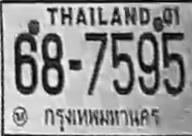5: (162, 31, 186, 95), (110, 32, 134, 94)
6: (14, 29, 38, 94)
7: (84, 31, 107, 94)
8: (41, 32, 63, 94)
9: (136, 32, 160, 94)
BKK: (41, 102, 162, 133)
